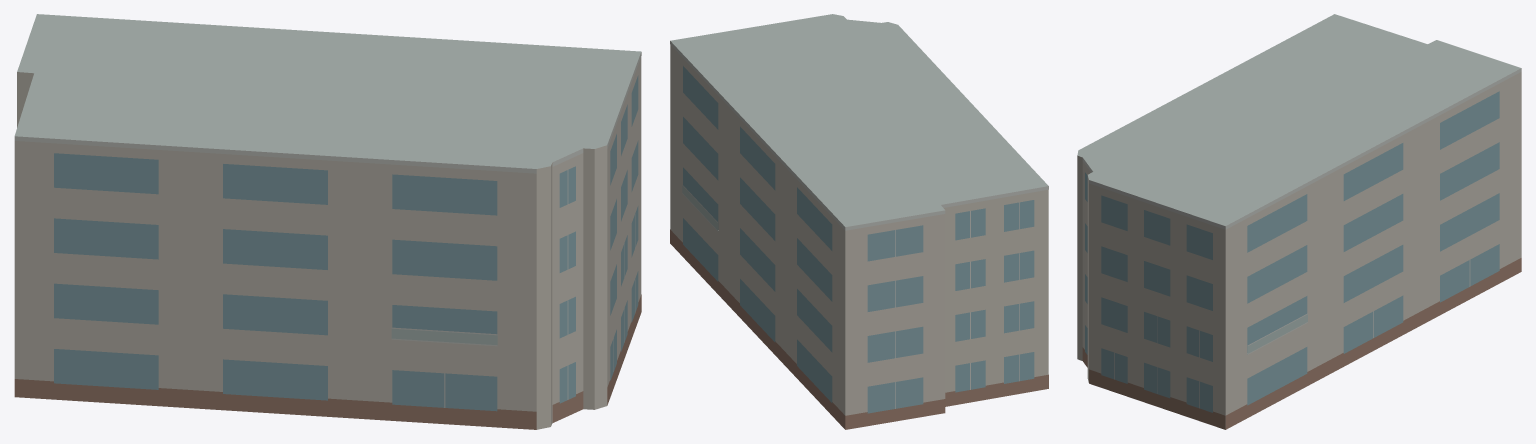
File: survey-upis-32890385.glb
The picture shows the model from 3 angles, left to right: view 1: azimuth 30°, elevation 25°; view 2: azimuth 150°, elevation 25°; view 3: azimuth 270°, elevation 25°; orthographic projection. The views are drawn at different scales.
Parts seen in each view (by area): view 1: survey-upis-32890385.tmp; view 2: survey-upis-32890385.tmp; view 3: survey-upis-32890385.tmp.
Part boxes in pixels (x1,y1,x2,y2): survey-upis-32890385.tmp: (14, 14, 641, 429); survey-upis-32890385.tmp: (670, 14, 1048, 429); survey-upis-32890385.tmp: (1077, 14, 1521, 429).
Bounding box in the file's own units: 31.07 × 13.9 × 27.47.
